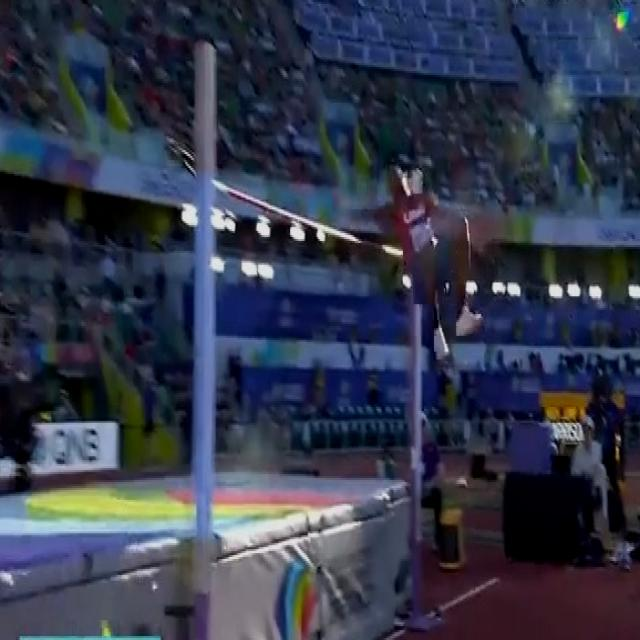land: (369, 159, 484, 359)
